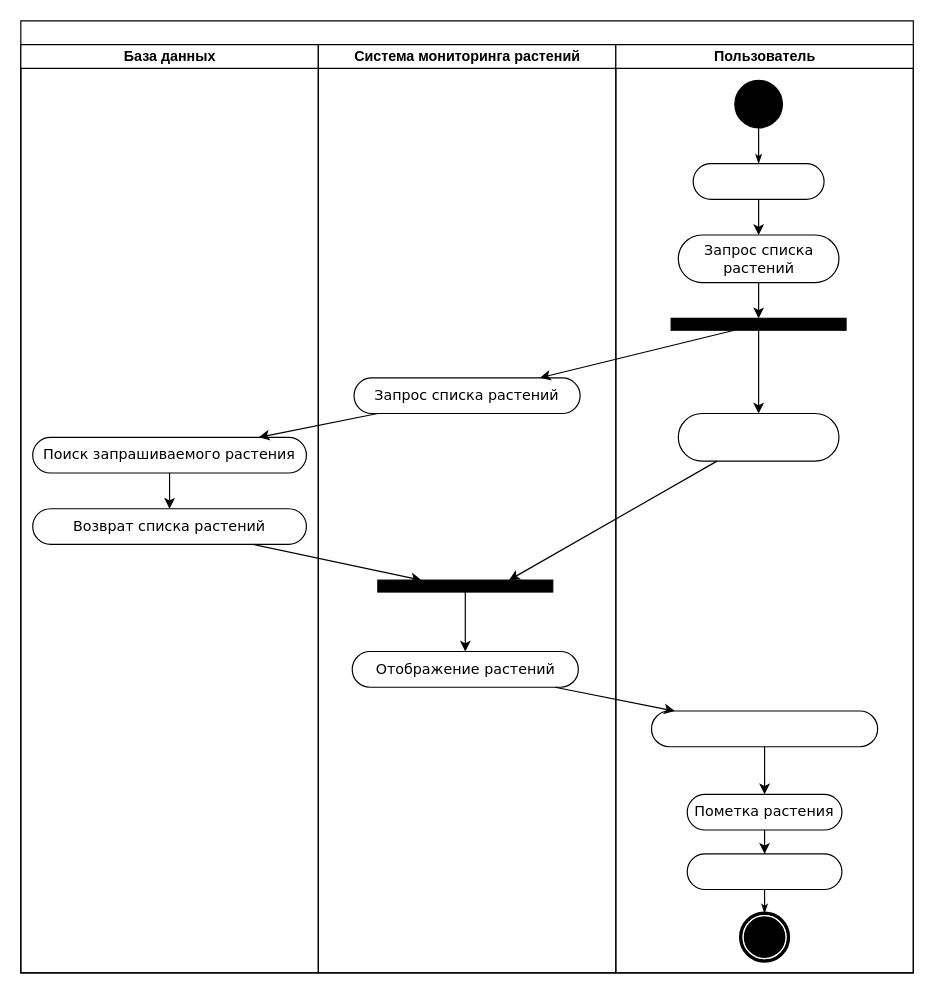
The diagram is 934 pixels wide and 994 high, and some of its shapes have lost their labels. The shapes that lost their labels are listed below. From the top down, each one's centre as x and y in pixels, then its label:
At (x=758, y=180): "Вход в систему".
At (x=758, y=436): "Ввод параметров и фильтров".
At (x=764, y=728): "Просмотр списка растений".
At (x=764, y=871): "Выход из системы".
